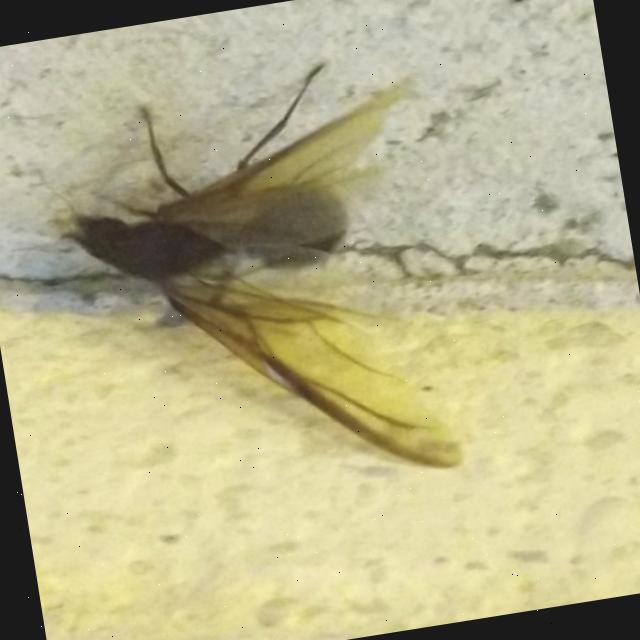Alive-Female-Alate: (0, 48, 469, 530)
